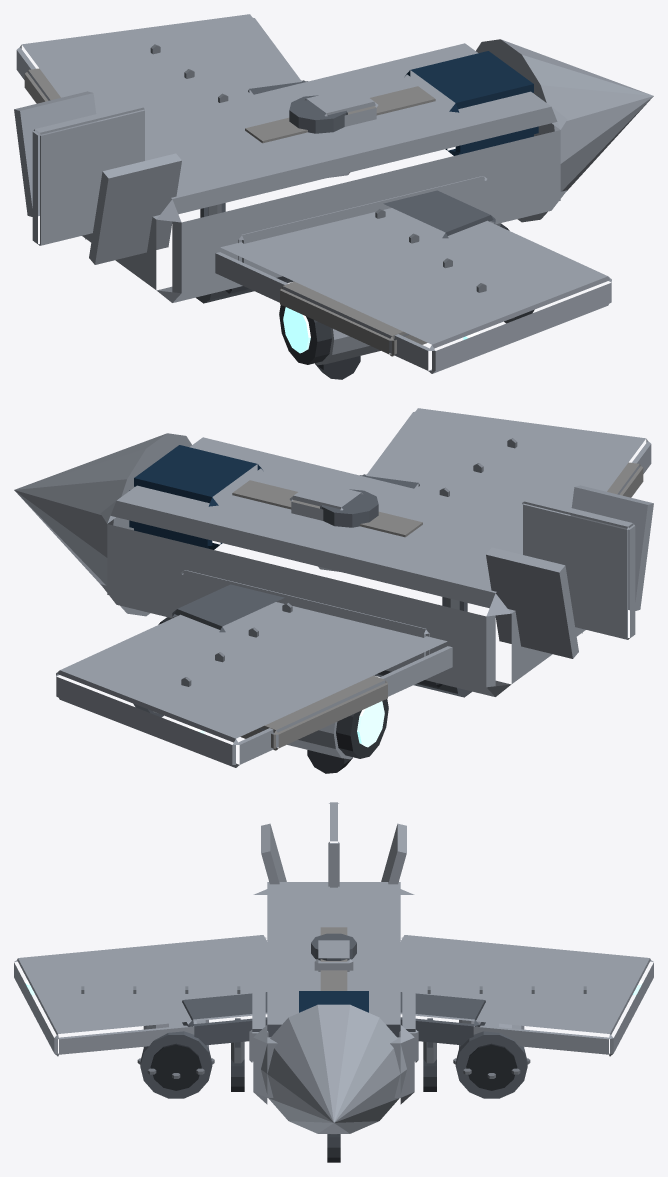
Rendered from hammerhead.glb.
The picture shows the model from 3 angles, top to bottom: view 1: azimuth 30°, elevation 25°; view 2: azimuth 150°, elevation 25°; view 3: azimuth 270°, elevation 25°; orthographic projection. The views are drawn at different scales.
Parts seen in each view (by area): view 1: body, turret; view 2: body, turret; view 3: body, turret.
Boxes of the visible parts, box(x1,y1,x2,y2) form: body: box(14, 14, 653, 379); turret: box(289, 87, 378, 133); body: box(14, 408, 653, 773); turret: box(289, 481, 378, 527); body: box(14, 802, 653, 1162); turret: box(311, 933, 356, 971).
Size of the model in its own units: 40.04 by 15.96 by 46.57.
